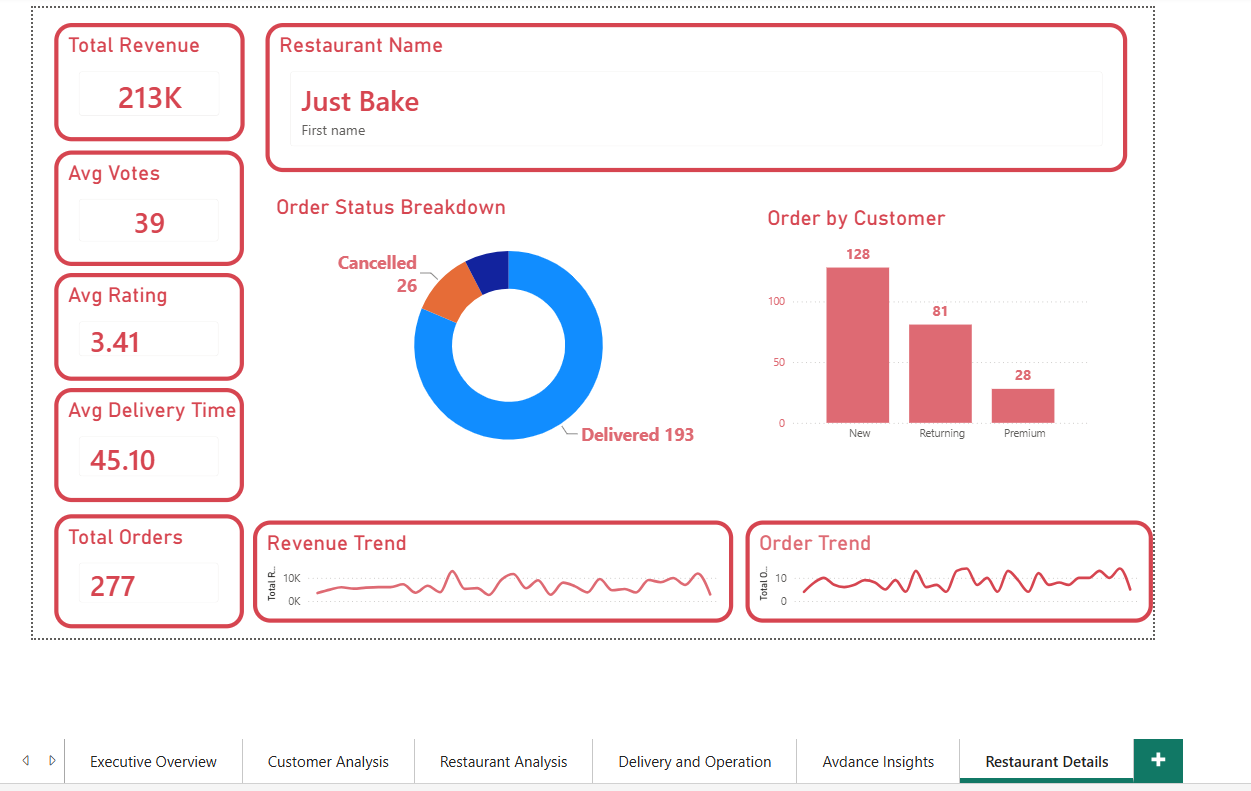

The dashboard page shown, as its layout file describes it:
{"tool":"powerbi","page":{"name":"Restaurant Details","canvas":[1280,720],"ordinal":5},"visuals":[{"type":"cardVisual","title":"Avg Votes","fields":{"Data":["Orders.Avg Votes"]},"box":[24,162.9,216.7,132.2],"z":0},{"type":"cardVisual","title":"Total Revenue","fields":{"Data":["Orders.Total Revenue"]},"box":[24,16.5,217.5,135],"z":1000},{"type":"cardVisual","title":"Avg Rating","fields":{"Data":["Orders.Avg Rating"]},"box":[24,302.9,216.7,123.3],"z":2000},{"type":"cardVisual","title":"Avg Delivery Time","fields":{"Data":["Orders.Avg Delivery Time"]},"box":[24,434,216.7,130],"z":3000},{"type":"cardVisual","title":"Total Orders","fields":{"Data":["Orders.Total Orders"]},"box":[24,578.4,216.7,130],"z":4000},{"type":"cardVisual","title":"Restaurant Name","fields":{"Data":["Min(Restaurant.name)"]},"box":[265,17.5,985,170],"z":5000},{"type":"columnChart","title":"Order by Customer","fields":{"Category":["Customers.CustomerType"],"Y":["Orders.Total Orders"]},"box":[834.3,225.7,380,278.6],"z":6000},{"type":"lineChart","title":"Revenue Trend","fields":{"Y":["Orders.Total Revenue"],"Category":["DateTable.Date.Variation.Date Hierarchy.Year","DateTable.Date.Variation.Date Hierarchy.Month"]},"box":[251.4,585.7,548.6,117.1],"z":7000},{"type":"lineChart","title":"Order Trend","fields":{"Category":["DateTable.Date.Variation.Date Hierarchy.Year","DateTable.Date.Variation.Date Hierarchy.Month"],"Y":["Orders.Total Orders"]},"box":[814.3,585.7,465.7,117.1],"z":8000},{"type":"actionButton","box":[0,0,100,40],"z":9000},{"type":"donutChart","title":"Order Status Breakdown","fields":{"Y":["Orders.Total Orders"],"Category":["Orders.OrderStatus"]},"box":[273.3,213.3,541.7,318.3],"z":10000}]}

Visuals, with their boxes on the page's 1280x720 design canvas (x1, y1, x2, y2). These are canvas units, not pixel positions in the 1251x791 screenshot, which may show the page scaled, cropped or inside an application window:
"Avg Votes" cardVisual: x1=24, y1=163, x2=241, y2=295
"Total Revenue" cardVisual: x1=24, y1=16, x2=242, y2=152
"Avg Rating" cardVisual: x1=24, y1=303, x2=241, y2=426
"Avg Delivery Time" cardVisual: x1=24, y1=434, x2=241, y2=564
"Total Orders" cardVisual: x1=24, y1=578, x2=241, y2=708
"Restaurant Name" cardVisual: x1=265, y1=18, x2=1250, y2=188
"Order by Customer" columnChart: x1=834, y1=226, x2=1214, y2=504
"Revenue Trend" lineChart: x1=251, y1=586, x2=800, y2=703
"Order Trend" lineChart: x1=814, y1=586, x2=1280, y2=703
actionButton: x1=0, y1=0, x2=100, y2=40
"Order Status Breakdown" donutChart: x1=273, y1=213, x2=815, y2=532
